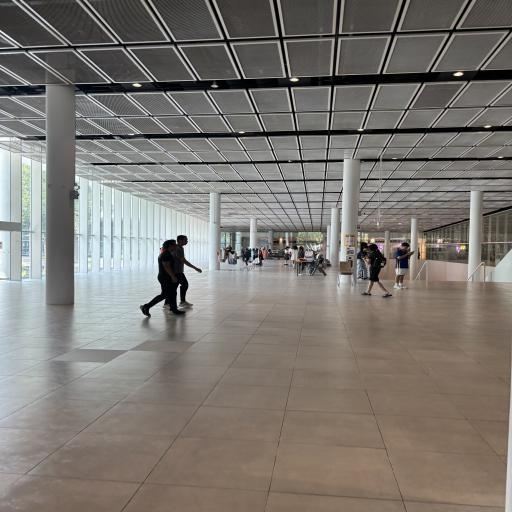person_left: (356, 238, 395, 300)
person_right: (154, 236, 177, 318), (170, 232, 197, 301), (392, 238, 413, 286)
